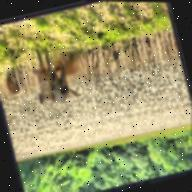boar: (27, 48, 88, 119)
